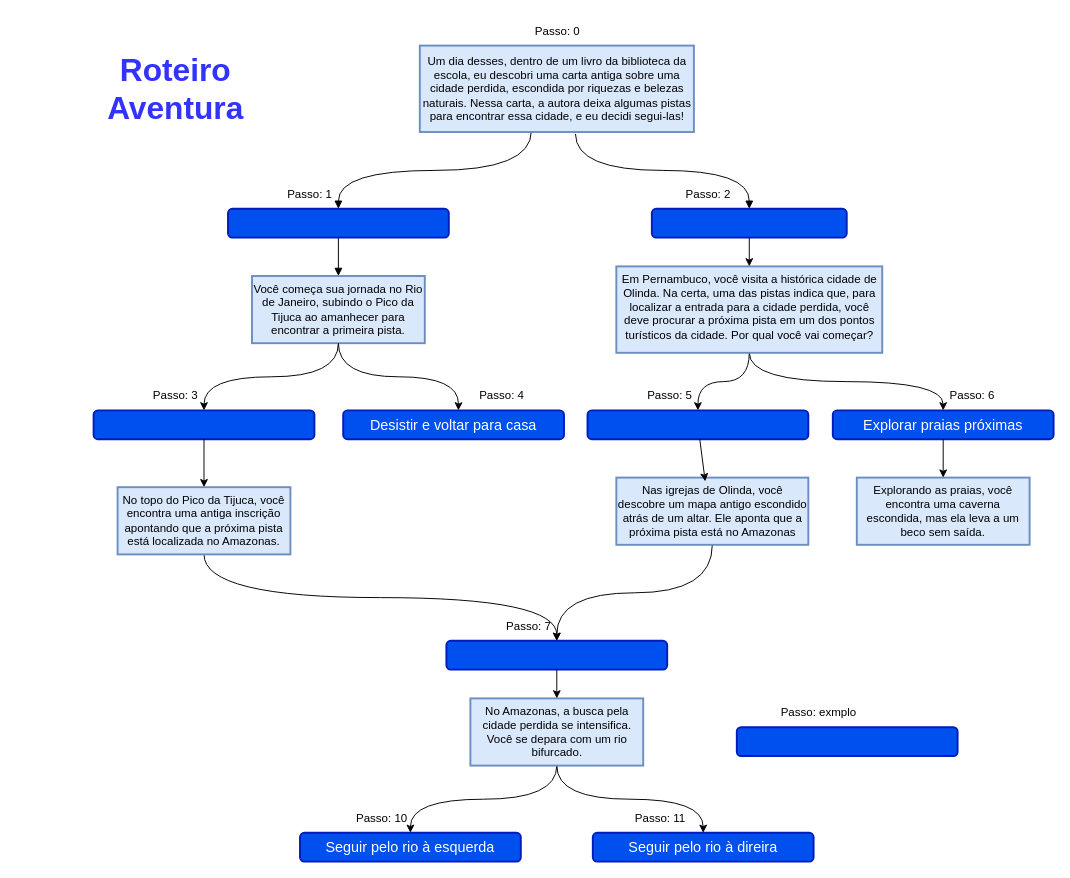
This 1070x878 diagram has some shape labels left out. The shapes that lost their labels are listed below. From the top down, each one's box as (x1, y1, x2, y2) in pixels, then its label:
(227, 207, 449, 238): Rio de Janeiro
(650, 207, 847, 238): Pernambuco
(92, 409, 315, 440): Procurar a pista do topo do pico
(586, 409, 809, 440): Investigar igrejas antigas
(445, 639, 668, 670): Amazonas
(735, 726, 958, 756): gfujdtu
